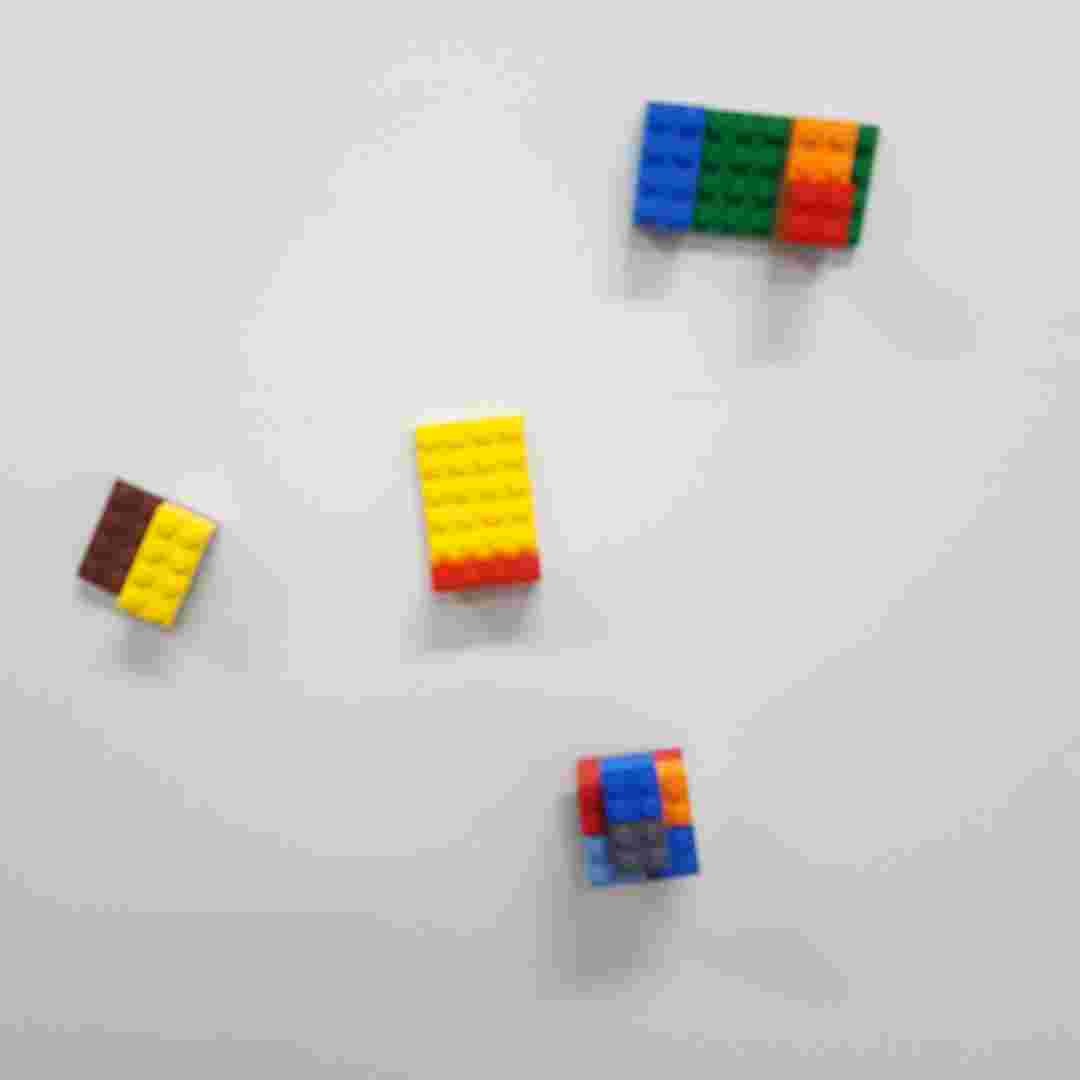LEGO: (615, 97, 891, 257), (402, 399, 549, 608), (75, 475, 228, 635), (567, 733, 709, 899)
